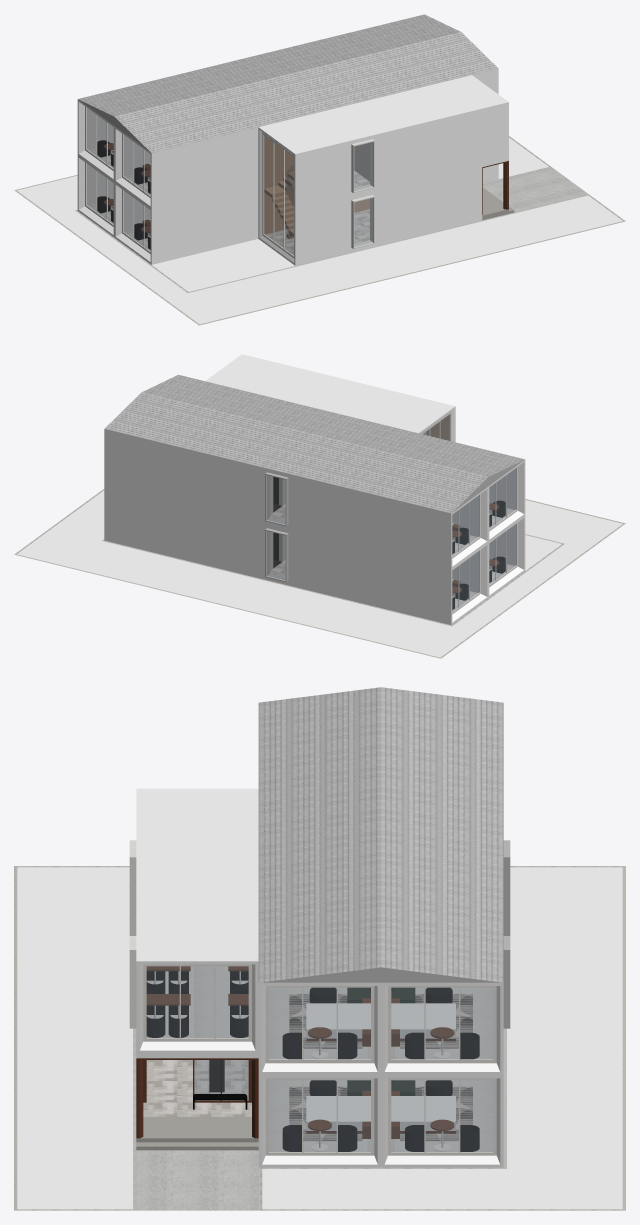
The model's file is 文旅民宿8间（包豪斯-渲染-贴图）.obj.
3 views of the same model, one above another, from view 1: azimuth 30°, elevation 25°; view 2: azimuth 150°, elevation 25°; view 3: azimuth 270°, elevation 25° (orthographic). The views are drawn at different scales.
Parts seen in each view (by area): view 1: Mesh436 Group459 Model, Mesh33 Group38 Group1 Model, Mesh32 Group37 Group1 Model, Mesh390 Group408 ___5_7 ___6_7 Group1 Model, Mesh234 Group236 ___5_3 ___6_3 Group1 Model, Mesh122 Group113 Group1 Model, Mesh48 Group56 Group53 Group1 Model, Mesh54 Group64 Group53 Group1 Model, Mesh46 Group54 Group53 Group1 Model, Mesh49 Group58 Group57 Group53 Group1 Model, Mesh47 Group55 Group53 Group1 Model, Mesh6 Group8 Group5 Group1 Model (+50 smaller); view 2: Mesh436 Group459 Model, Mesh273 Group279 ___5_4 ___6_4 Group1 Model, Mesh429 Group451 ___5_8 ___6_8 Group1 Model, Mesh155 Group149 ___5_1 ___6_1 Group1 Model, Mesh350 Group364 ___5_6 ___6_6 Group1 Model, Mesh425 Group447 ___5_8 ___6_8 Group1 Model, Mesh269 Group275 ___5_4 ___6_4 Group1 Model, Mesh33 Group38 Group1 Model, Mesh234 Group236 ___5_3 ___6_3 Group1 Model, Mesh390 Group408 ___5_7 ___6_7 Group1 Model, Mesh154 Group148 ___5_1 ___6_1 Group1 Model, Mesh270 Group276 ___5_4 ___6_4 Group1 Model (+59 smaller); view 3: Mesh436 Group459 Model, Mesh200 Group199 ___5_2 ___6_2 Group1 Model, Mesh317 Group328 ___5_5 ___6_5 Group1 Model, Mesh53 Group63 Group57 Group53 Group1 Model, Mesh161 Group156 ___5_1 ___6_1 Group1 Model, Mesh356 Group371 ___5_6 ___6_6 Group1 Model, Mesh49 Group58 Group57 Group53 Group1 Model, Mesh312 Group322 ___5_5 ___6_5 Group1 Model, Mesh195 Group193 ___5_2 ___6_2 Group1 Model, Mesh351 Group365 ___5_6 ___6_6 Group1 Model, Mesh156 Group150 ___5_1 ___6_1 Group1 Model, Mesh54 Group64 Group53 Group1 Model (+56 smaller).
Boxes of the visible parts, x1,y1,x2,y2 form: Mesh436 Group459 Model: [14, 136, 625, 325]; Mesh33 Group38 Group1 Model: [258, 120, 321, 265]; Mesh32 Group37 Group1 Model: [285, 114, 348, 259]; Mesh390 Group408 ___5_7 ___6_7 Group1 Model: [114, 126, 178, 208]; Mesh234 Group236 ___5_3 ___6_3 Group1 Model: [114, 182, 178, 264]; Mesh122 Group113 Group1 Model: [264, 135, 293, 255]; Mesh48 Group56 Group53 Group1 Model: [339, 101, 402, 190]; Mesh54 Group64 Group53 Group1 Model: [419, 81, 482, 170]; Mesh46 Group54 Group53 Group1 Model: [392, 88, 455, 177]; Mesh49 Group58 Group57 Group53 Group1 Model: [445, 75, 508, 164]; Mesh47 Group55 Group53 Group1 Model: [365, 94, 428, 183]; Mesh6 Group8 Group5 Group1 Model: [354, 184, 402, 246]; Mesh436 Group459 Model: [14, 489, 625, 658]; Mesh273 Group279 ___5_4 ___6_4 Group1 Model: [424, 542, 488, 624]; Mesh429 Group451 ___5_8 ___6_8 Group1 Model: [424, 487, 488, 569]; Mesh155 Group149 ___5_1 ___6_1 Group1 Model: [237, 517, 281, 579]; Mesh350 Group364 ___5_6 ___6_6 Group1 Model: [237, 461, 281, 523]; Mesh425 Group447 ___5_8 ___6_8 Group1 Model: [398, 500, 459, 562]; Mesh269 Group275 ___5_4 ___6_4 Group1 Model: [398, 556, 459, 618]; Mesh33 Group38 Group1 Model: [392, 400, 455, 442]; Mesh234 Group236 ___5_3 ___6_3 Group1 Model: [488, 515, 525, 597]; Mesh390 Group408 ___5_7 ___6_7 Group1 Model: [488, 460, 525, 541]; Mesh154 Group148 ___5_1 ___6_1 Group1 Model: [157, 498, 184, 559]; Mesh270 Group276 ___5_4 ___6_4 Group1 Model: [344, 543, 371, 605]; Mesh436 Group459 Model: [14, 866, 625, 1210]; Mesh200 Group199 ___5_2 ___6_2 Group1 Model: [269, 1080, 370, 1151]; Mesh317 Group328 ___5_5 ___6_5 Group1 Model: [269, 988, 370, 1059]; Mesh53 Group63 Group57 Group53 Group1 Model: [147, 966, 248, 1037]; Mesh161 Group156 ___5_1 ___6_1 Group1 Model: [391, 1080, 492, 1151]; Mesh356 Group371 ___5_6 ___6_6 Group1 Model: [391, 988, 492, 1059]; Mesh49 Group58 Group57 Group53 Group1 Model: [136, 939, 258, 1053]; Mesh312 Group322 ___5_5 ___6_5 Group1 Model: [258, 982, 381, 1075]; Mesh195 Group193 ___5_2 ___6_2 Group1 Model: [258, 1075, 381, 1167]; Mesh351 Group365 ___5_6 ___6_6 Group1 Model: [381, 982, 503, 1075]; Mesh156 Group150 ___5_1 ___6_1 Group1 Model: [381, 1075, 503, 1167]; Mesh54 Group64 Group53 Group1 Model: [136, 918, 258, 1024].
Size of the model in its own units: 24000 by 6500 by 18000.
Materials: 24 (16 with a texture image).
